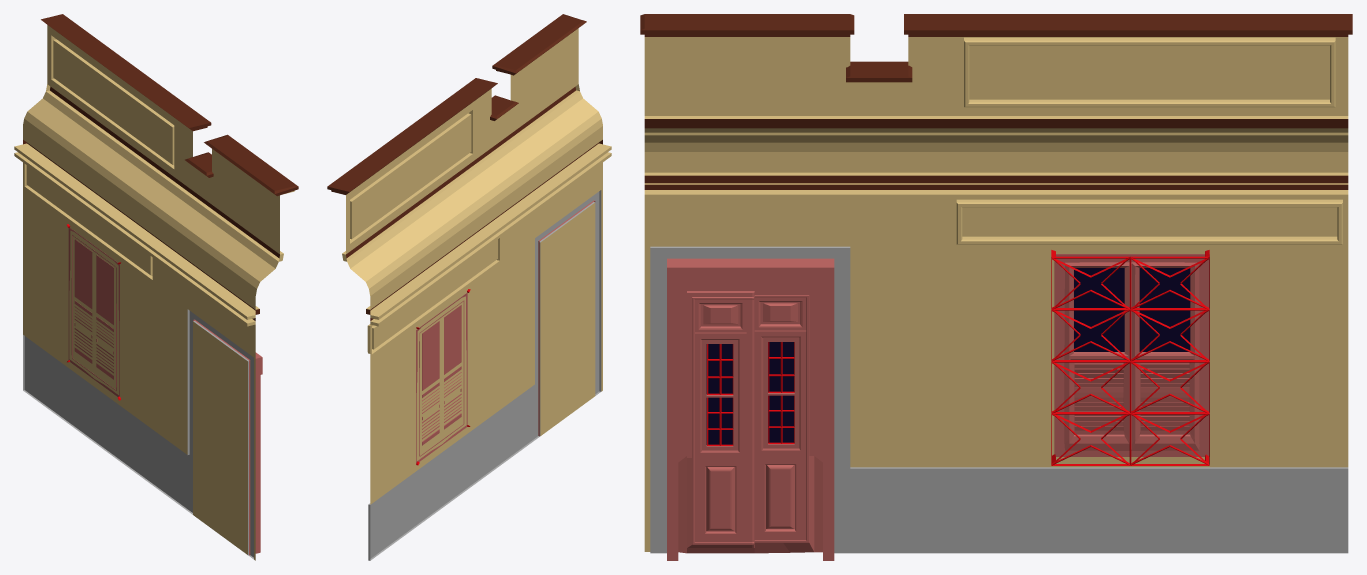
File: Casa2.fbx
3 renders of one model, left to right at view 1: azimuth 30°, elevation 25°; view 2: azimuth 150°, elevation 25°; view 3: azimuth 270°, elevation 25°, orthographic. The views are drawn at different scales.
Visible parts, largest first — view 1: Casa4; view 2: Casa4; view 3: Casa4.
Boxes of the visible parts, x1=… form: Casa4: x1=14, y1=14, x2=298, y2=560; Casa4: x1=327, y1=14, x2=611, y2=560; Casa4: x1=640, y1=14, x2=1352, y2=560.
Bounding box in the file's own units: 40.53 × 284 × 332.
